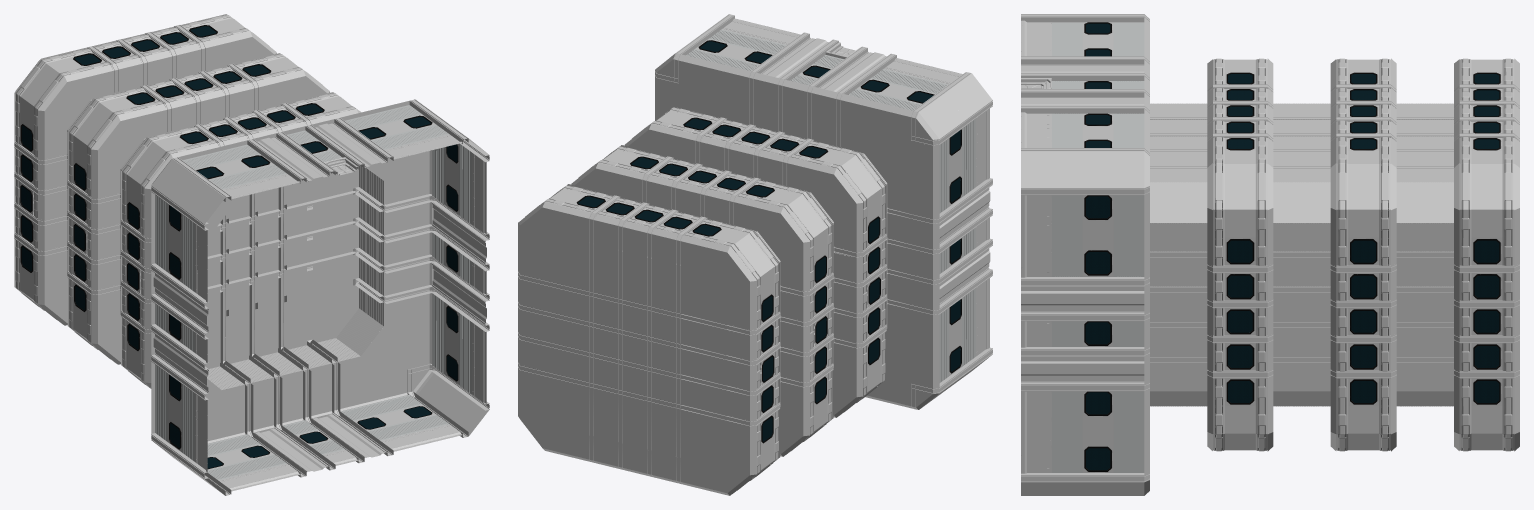
Rendered from ResearchBuildingOneMesh2.fbx.
3 views of the same model, side by side, from view 1: azimuth 30°, elevation 25°; view 2: azimuth 150°, elevation 25°; view 3: azimuth 270°, elevation 25° (orthographic). The views are drawn at different scales.
Parts seen in each view (by area): view 1: wall4a_2x4.005_Cube.002; view 2: wall4a_2x4.005_Cube.002; view 3: wall4a_2x4.005_Cube.002.
Part boxes in pixels (box(x1,y1,x2,y2)): wall4a_2x4.005_Cube.002: box(14, 14, 489, 495); wall4a_2x4.005_Cube.002: box(518, 14, 992, 495); wall4a_2x4.005_Cube.002: box(1021, 14, 1519, 495).
Bounding box in the file's own units: 3702 × 3702 × 4856.
